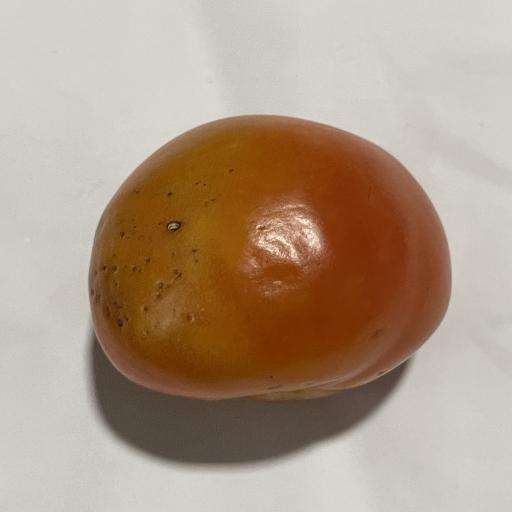overipe: (88, 115, 451, 401)
